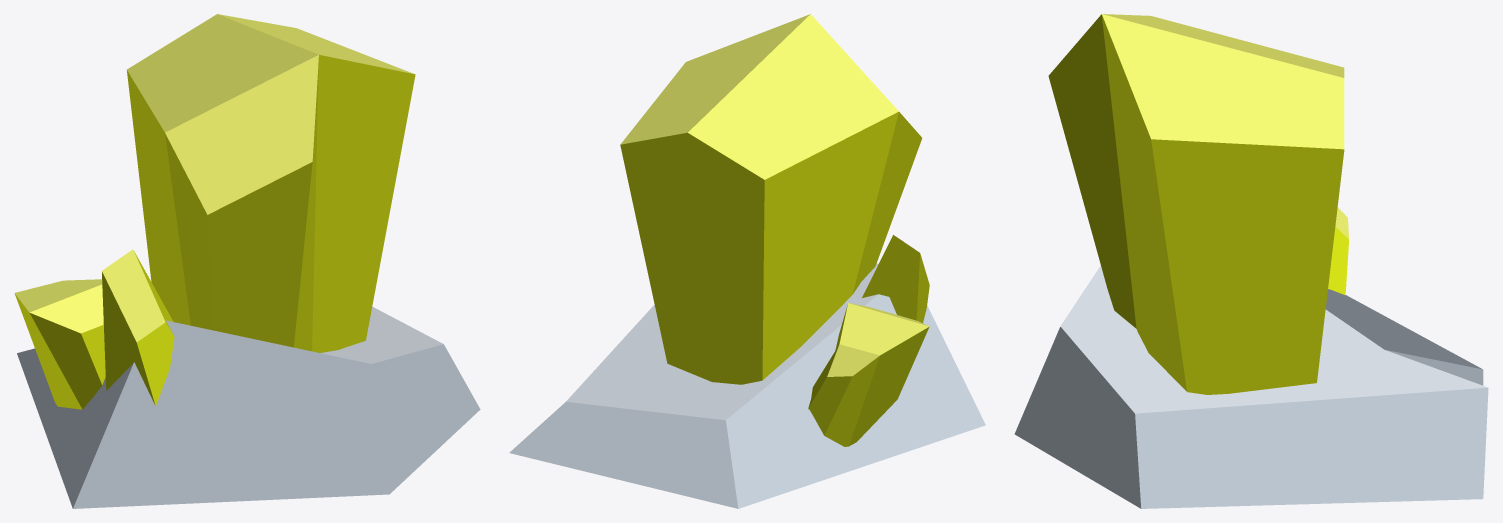
File: Crystal_Alt3.fbx
The picture shows the model from 3 angles, left to right: view 1: azimuth 30°, elevation 25°; view 2: azimuth 150°, elevation 25°; view 3: azimuth 270°, elevation 25°; orthographic projection. The views are drawn at different scales.
Parts seen in each view (by area): view 1: Crystal1_Alt3; view 2: Crystal1_Alt3; view 3: Crystal1_Alt3.
Boxes of the visible parts, bbox=[...] form: Crystal1_Alt3: bbox=[14, 14, 480, 508]; Crystal1_Alt3: bbox=[509, 14, 985, 508]; Crystal1_Alt3: bbox=[1014, 14, 1488, 508].
Size of the model in its own units: 1.05 by 1.02 by 1.07.
